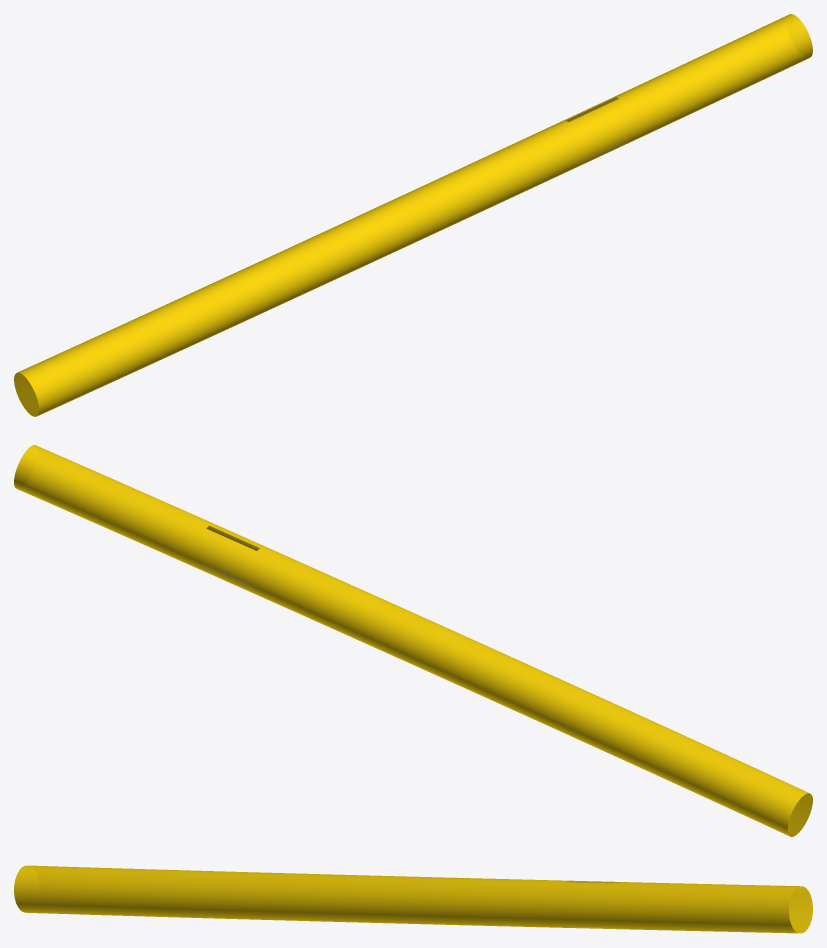
Rendered from Event_420094457_track_79.fbx.
3 views of the same model, one above another, from view 1: azimuth 30°, elevation 25°; view 2: azimuth 150°, elevation 25°; view 3: azimuth 330°, elevation 25° (orthographic).
Visible parts, largest first — view 1: Model; view 2: Model; view 3: Model.
Part boxes in pixels (x1,y1,x2,y2): Model: (14, 14, 812, 416); Model: (14, 445, 812, 836); Model: (14, 865, 812, 933).
Bounding box in the file's own units: 0.7534 × 0.1907 × 0.0481.
